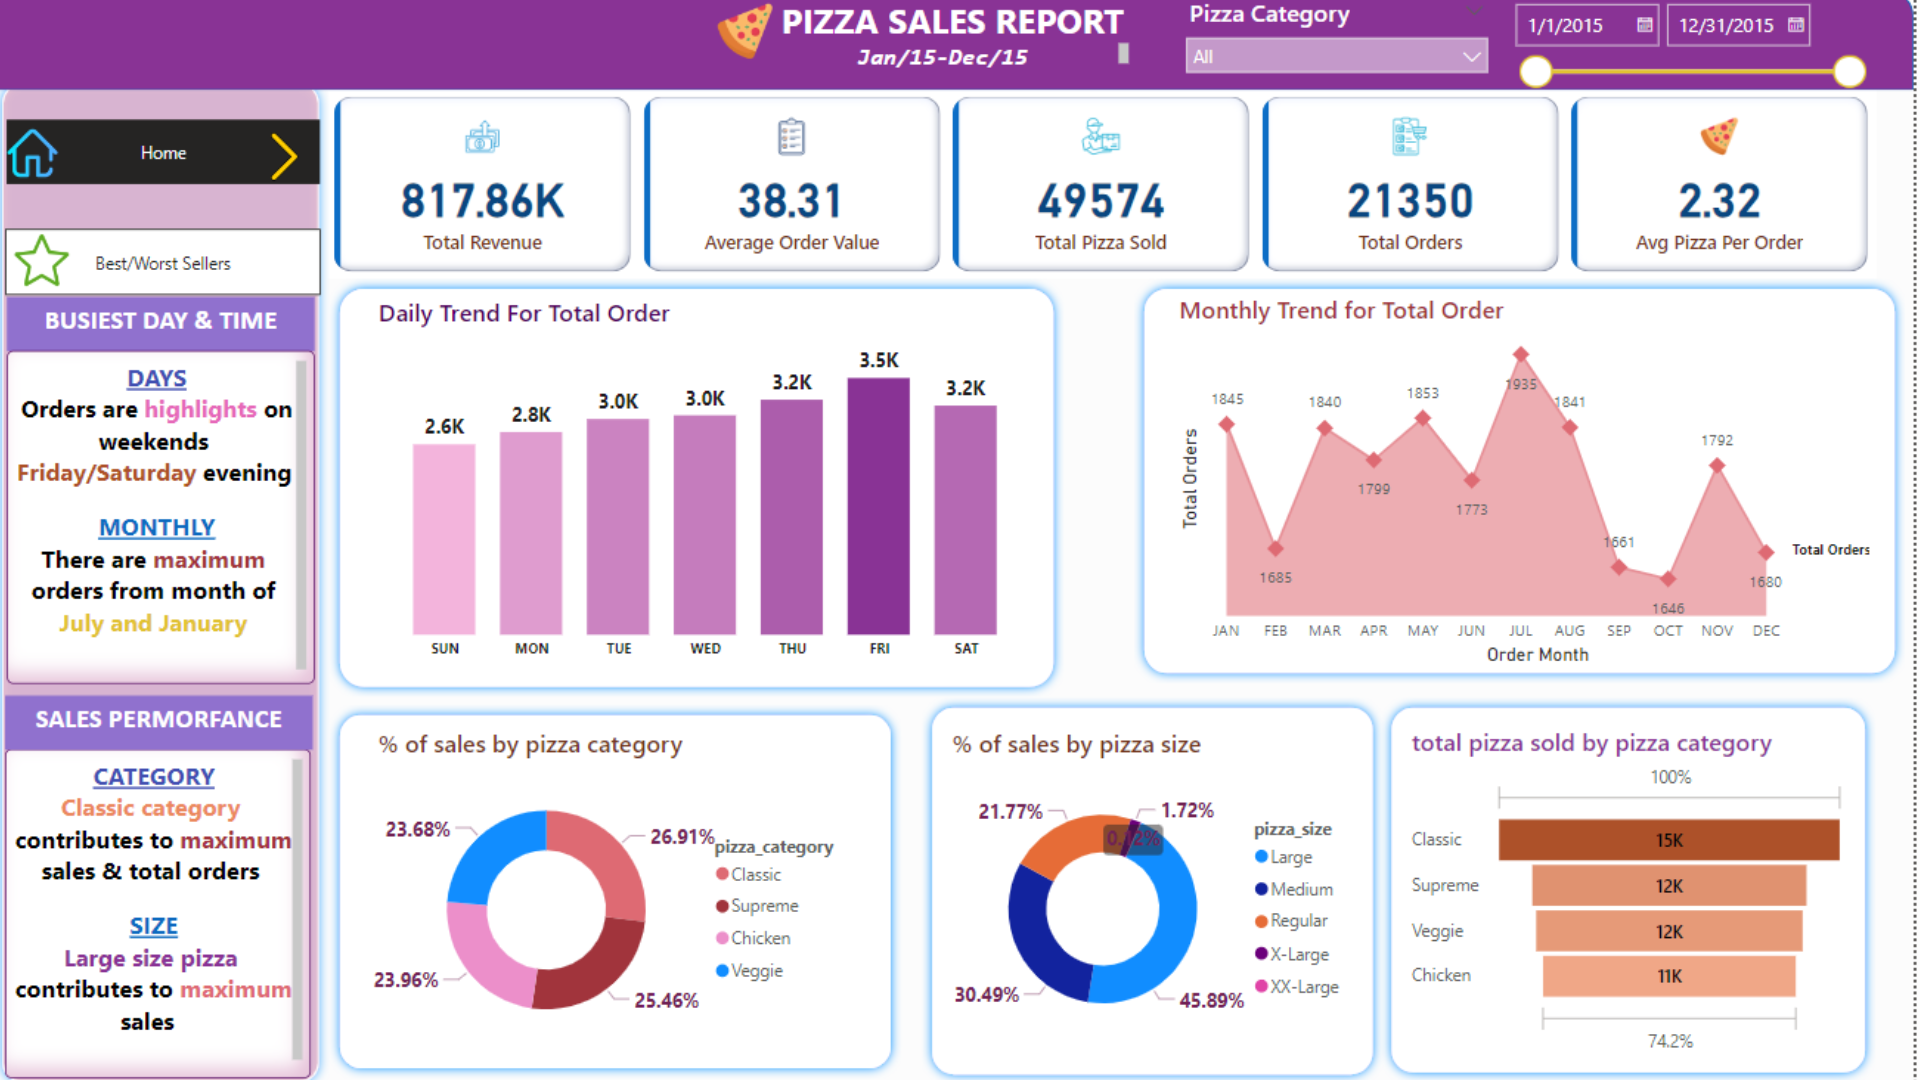

The dashboard page shown, as its layout file describes it:
{"tool":"powerbi","page":{"name":"Home","canvas":[1505,862],"ordinal":0},"visuals":[{"type":"cardVisual","fields":{"Data":["pizza_sales.Total Revenue","pizza_sales.Average Order Value","pizza_sales.Total Pizza Sold","pizza_sales.Total Orders","pizza_sales.Avg Pizza Per Order"]},"box":[264.4,78,1211.9,147.5],"z":0},{"type":"shape","box":[1.5,65.2,263.6,797],"z":1000},{"type":"shape","box":[0,0,1505.1,78],"z":2000},{"type":"textbox","box":[580.3,0,345.5,54.5],"z":3000},{"type":"textbox","box":[601.5,36.4,293.9,28.8],"z":4000},{"type":"image","box":[330.3,4.5,519.7,54.5],"z":5000},{"type":"shape","box":[265.2,225.8,574.2,327.3],"z":6000},{"type":"columnChart","title":"Daily Trend For Total Order","fields":{"Category":["pizza_sales.Order Day"],"Y":["pizza_sales.Total Orders"]},"box":[298.5,237.9,522.7,293.9],"z":7000},{"type":"shape","box":[895.5,225.8,603,316.7],"z":8000},{"type":"areaChart","title":"Monthly Trend for Total Order","fields":{"Category":["pizza_sales.Order Month"],"Y":["pizza_sales.Total Orders"]},"box":[925.8,236.4,550,295.5],"z":9000},{"type":"shape","box":[265.2,559.1,447,292.4],"z":10000},{"type":"shape","box":[728.8,553,360.6,303],"z":11000},{"type":"shape","box":[1089.4,553,386.4,301.5],"z":12000},{"type":"donutChart","title":"% of sales by pizza category","fields":{"Category":["pizza_sales.pizza_category"],"Y":["pizza_sales.Total Revenue"]},"box":[298.5,575.8,381.8,262.1],"z":13000},{"type":"donutChart","title":"% of sales by pizza size","fields":{"Y":["pizza_sales.Total Revenue"],"Category":["pizza_sales.pizza_size"]},"box":[748.5,575.8,325.8,260.6],"z":14000},{"type":"funnel","title":"total pizza sold by pizza category","fields":{"Category":["pizza_sales.pizza_category"],"Y":["pizza_sales.Total Pizza Sold"]},"box":[1107.6,574.2,350,262.1],"z":15000},{"type":"textbox","box":[13.6,239.4,240.9,42.4],"z":16000},{"type":"textbox","box":[13.6,281.8,240.9,260.6],"z":17000},{"type":"textbox","box":[12.1,593.9,239.4,257.6],"z":18000},{"type":"textbox","box":[12.1,551.5,240.9,42.4],"z":19000},{"type":"slicer","fields":{"Values":["pizza_sales.pizza_category"]},"box":[925.8,0,256.1,65.2],"z":20000},{"type":"slicer","fields":{"Values":["pizza_sales.order_date"]},"box":[1181.4,0,294.9,101.7],"z":21000},{"type":"pageNavigator","box":[13.6,101.7,245.8,50.8],"z":22000},{"type":"pageNavigator","box":[11.9,186.4,247.5,52.5],"z":23000},{"type":"image","box":[206.8,105.1,47.5,49.2],"z":24000},{"type":"image","box":[8.5,101.7,49.2,52.5],"z":25000},{"type":"image","box":[8.5,184.7,62.7,52.5],"z":26000}]}

Visuals, with their boxes in screenshot pixels (x1, y1, x2, y2), scaled from the page's 1505x862 canvas onto the 1920x1080 screenshot:
cardVisual - pizza_sales.Total Revenue x pizza_sales.Average Order Value: 337:98:1883:283
shape: 2:82:338:1079
shape: 0:0:1919:98
textbox: 740:0:1181:68
textbox: 767:46:1142:82
image: 421:6:1084:74
shape: 338:283:1071:693
"Daily Trend For Total Order" columnChart: 381:298:1048:666
shape: 1142:283:1912:680
"Monthly Trend for Total Order" areaChart: 1181:296:1883:666
shape: 338:700:909:1067
shape: 930:693:1390:1072
shape: 1390:693:1883:1071
"% of sales by pizza category" donutChart: 381:721:868:1050
"% of sales by pizza size" donutChart: 955:721:1371:1048
"total pizza sold by pizza category" funnel: 1413:719:1860:1048
textbox: 17:300:325:353
textbox: 17:353:325:680
textbox: 15:744:321:1067
textbox: 15:691:323:744
slicer - pizza_sales.pizza_category: 1181:0:1508:82
slicer - pizza_sales.order_date: 1507:0:1883:127
pageNavigator: 17:127:331:191
pageNavigator: 15:234:331:299
image: 264:132:324:193
image: 11:127:74:193
image: 11:231:91:297
